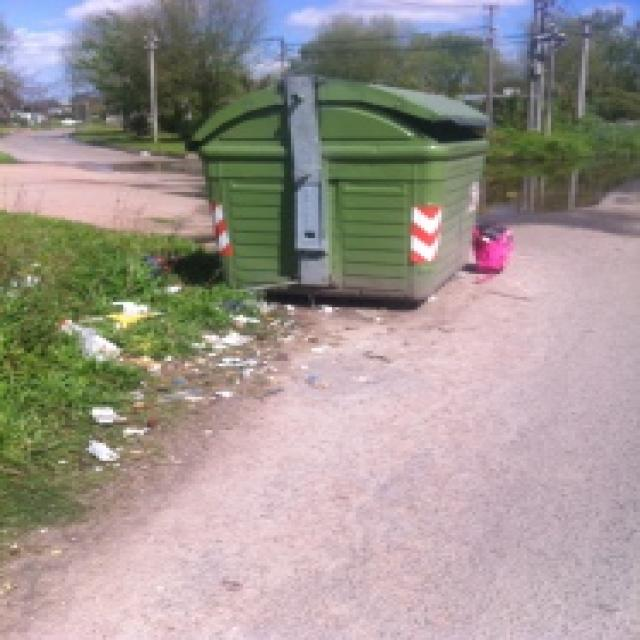garbage: (44, 281, 178, 379), (82, 394, 140, 466)
